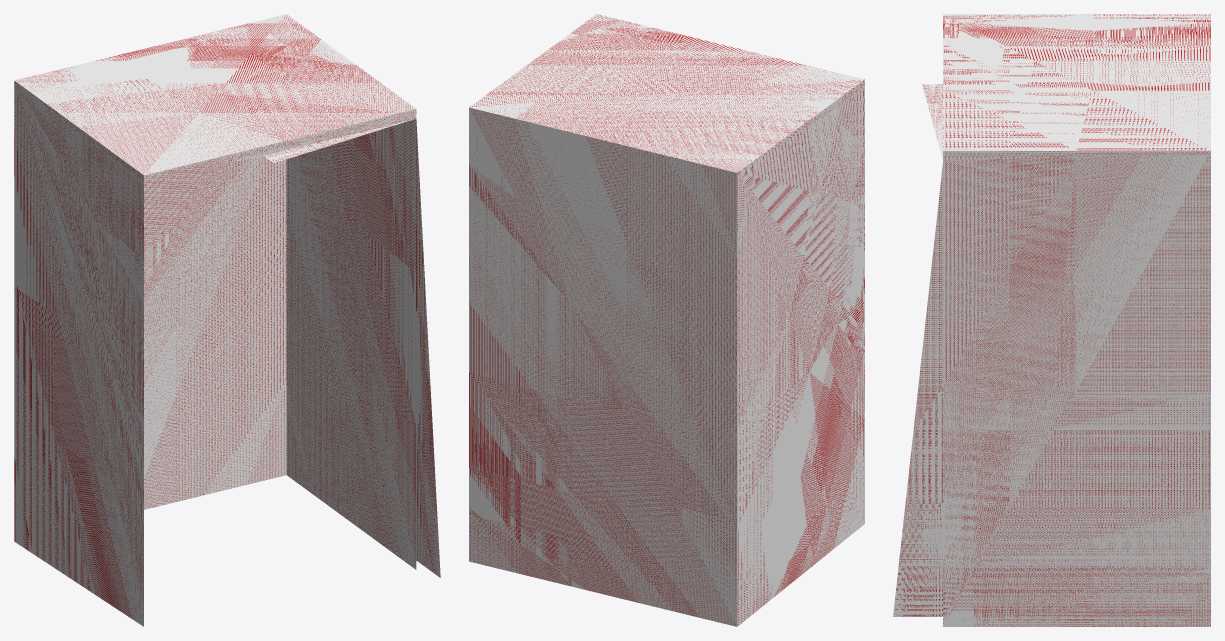
3 views of the same model, side by side, from view 1: azimuth 30°, elevation 25°; view 2: azimuth 150°, elevation 25°; view 3: azimuth 270°, elevation 25° (orthographic). The views are drawn at different scales.
Size of the model in its own units: 0.9351 by 1.51 by 0.9162.
